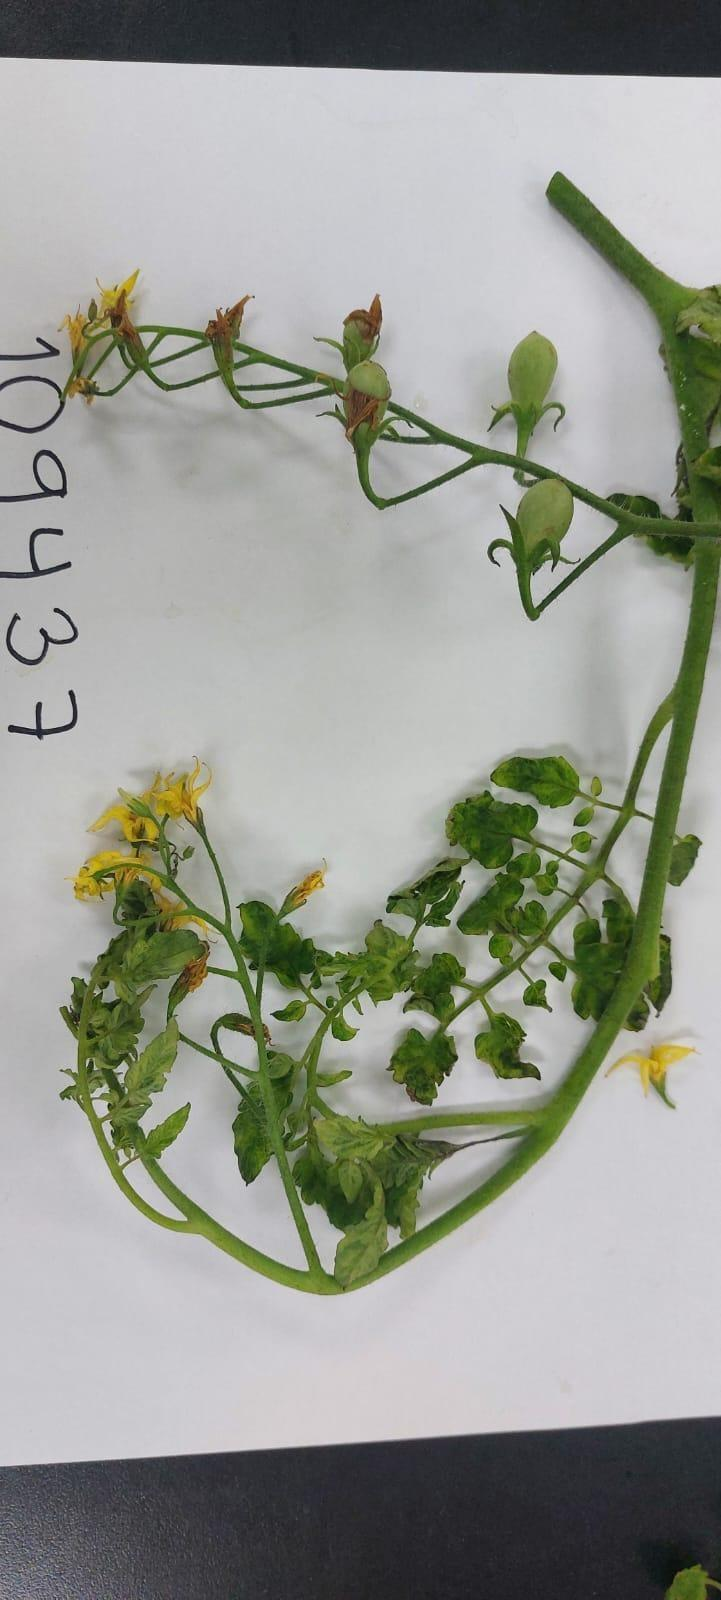Rugose Flower: (176, 941, 207, 993), (214, 1013, 253, 1038), (262, 1025, 269, 1044)
Rugose tomato: (342, 361, 392, 464), (516, 478, 572, 553), (506, 331, 556, 412)
